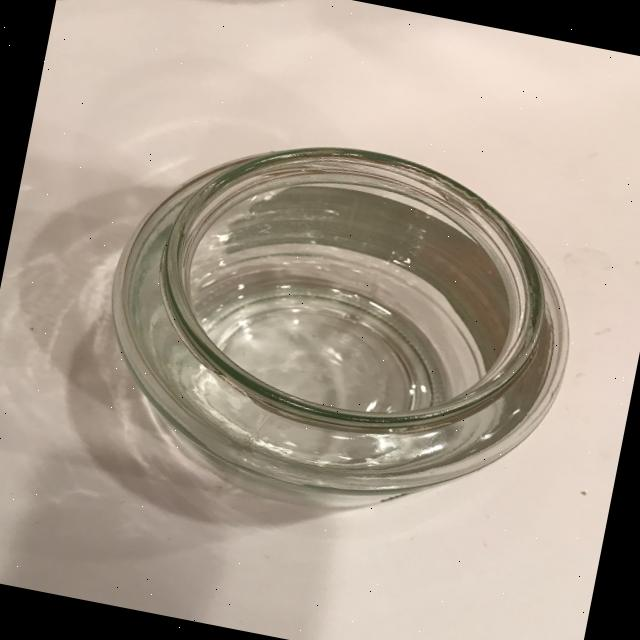glass: (79, 106, 600, 543)
